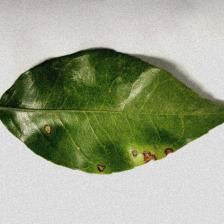canker: (41, 123, 180, 173)
